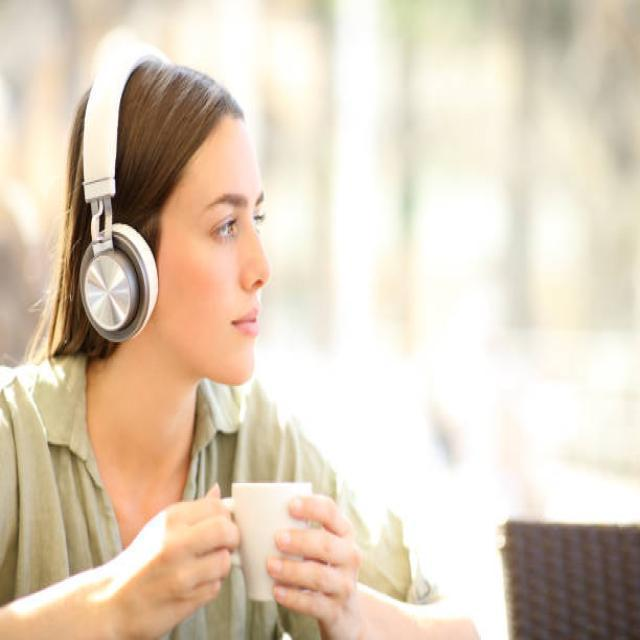Looking away: (166, 114, 271, 387)
